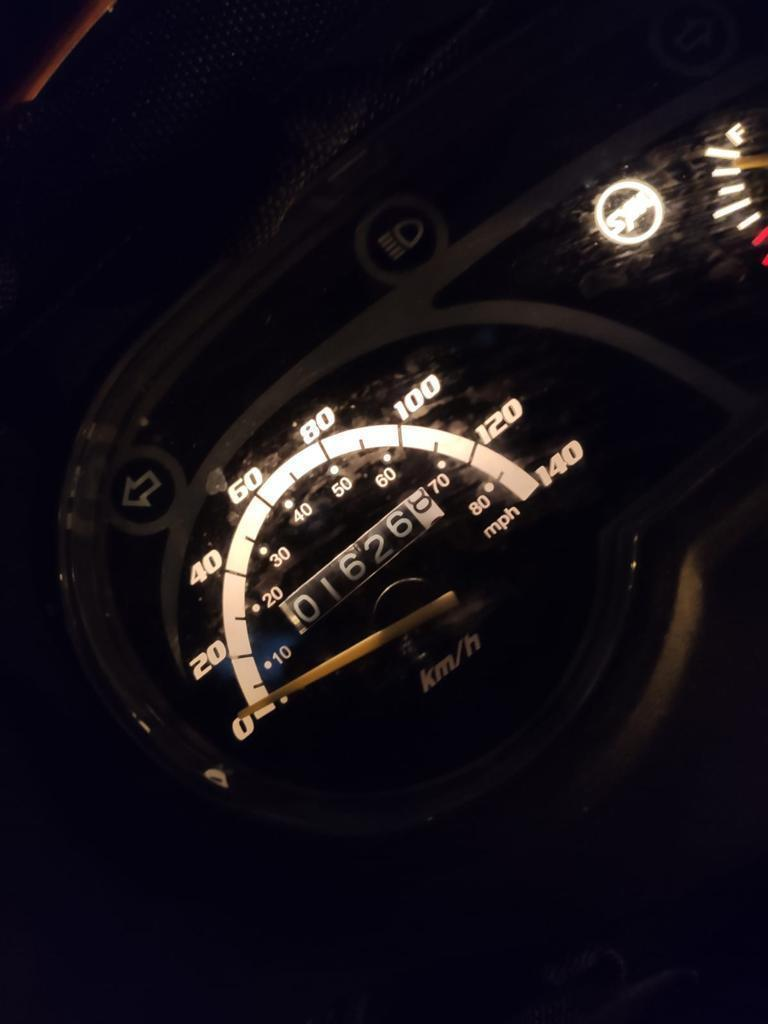0: (291, 594, 324, 624), (276, 545, 292, 560), (269, 584, 283, 600), (299, 501, 313, 516)
1: (313, 576, 343, 603)
2: (362, 535, 396, 564), (261, 593, 277, 608)
3: (270, 552, 282, 568)
4: (293, 507, 304, 522)
5: (329, 482, 343, 497)
6: (385, 507, 414, 539), (336, 552, 367, 580)
7: (426, 478, 441, 498)
8: (405, 489, 432, 514)
odometer: (269, 484, 450, 642)
